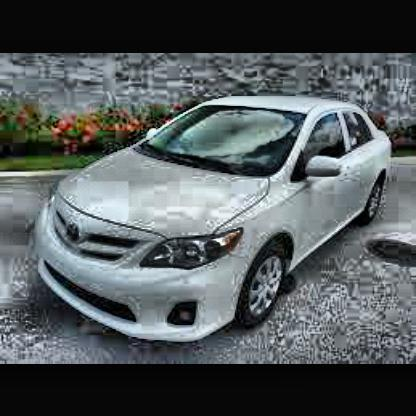Toyota Corolla Sedan 2012: (27, 92, 399, 355)
